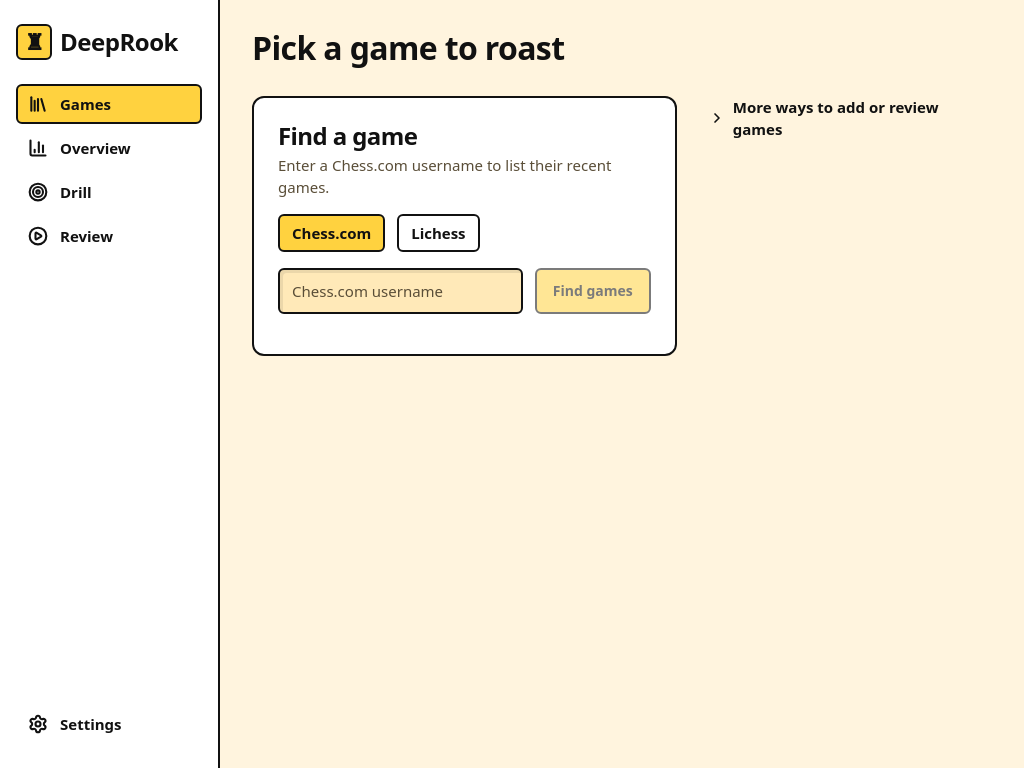
Test: shows a message when the user does not exist
In the field labelled "Chess.com username": (400, 291) [278,268,523,314], type "nobody"
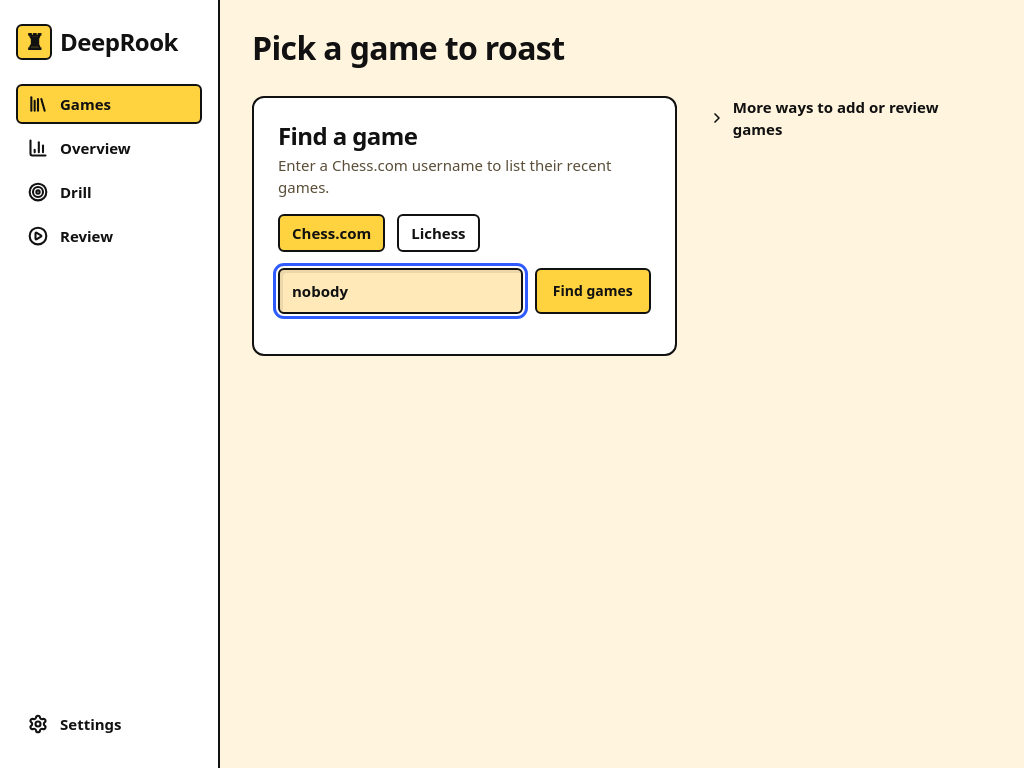
Click the button "Find games": click(593, 291) [535,268,651,314]
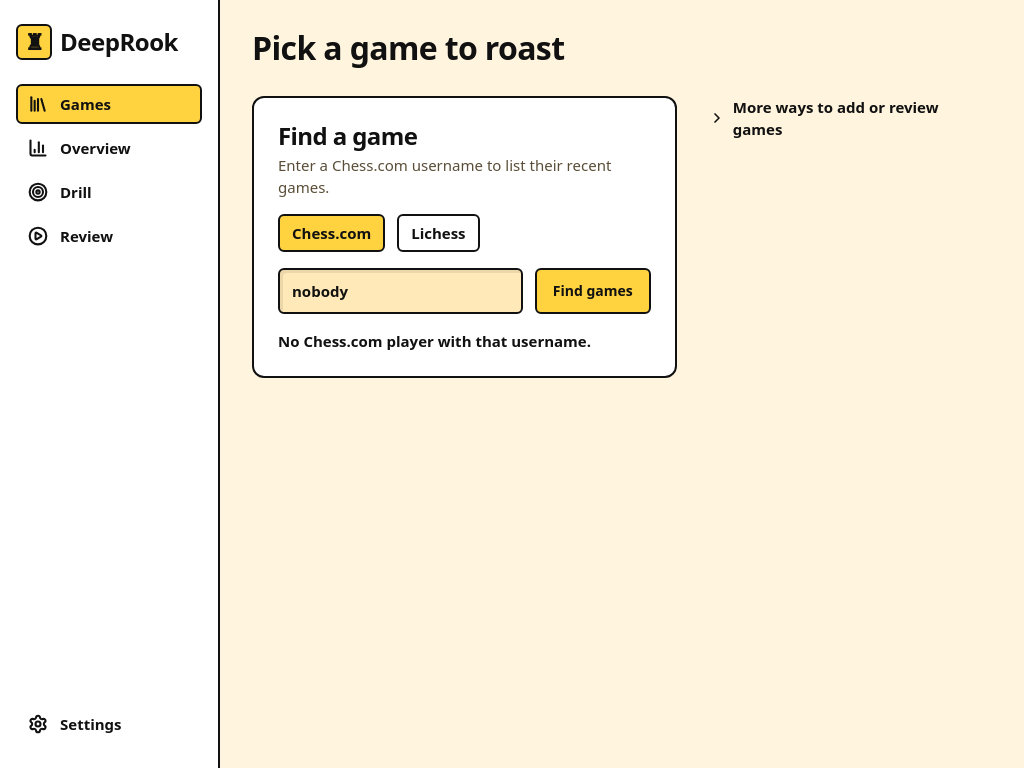
Now the message shows "No Chess.com player", box [278,331,591,351]
